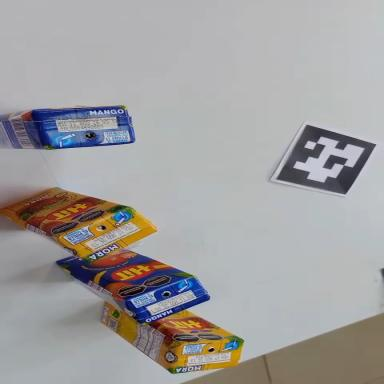HIT-MANGO: (47, 225, 216, 344), (0, 104, 136, 152)
HIT-MORA: (0, 174, 160, 276), (97, 302, 246, 381)
cara_F: (53, 227, 193, 319), (0, 162, 130, 253), (148, 297, 243, 368)
